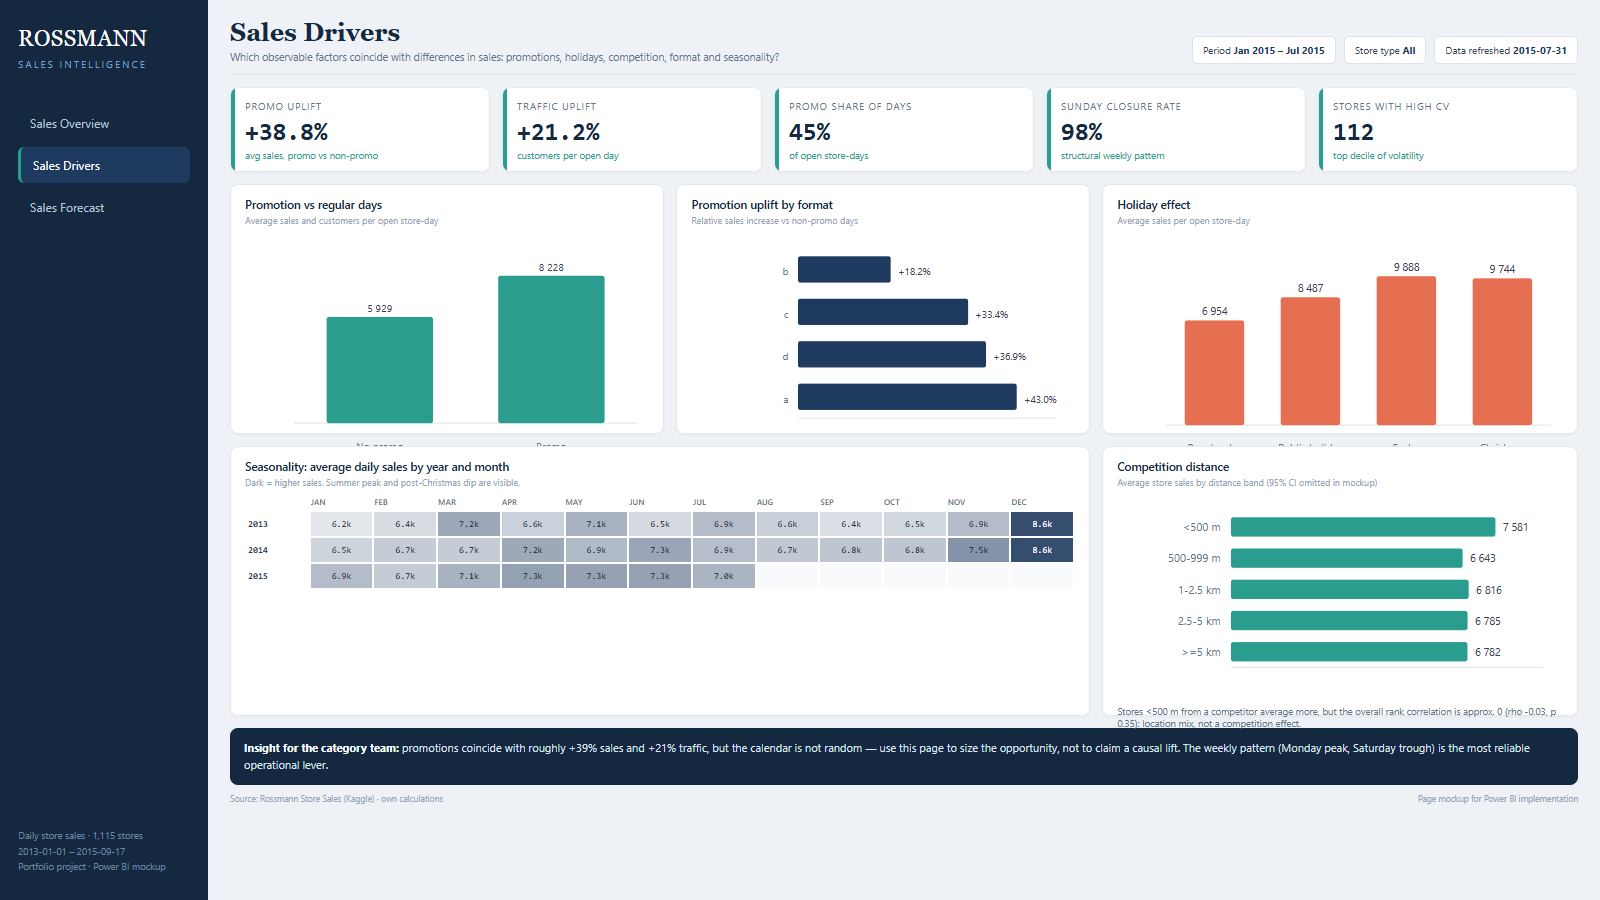

The page's visual inventory and layout, read from the dashboard file:
{"tool":"powerbi","page":{"name":"Dźwignie","canvas":[1920,1080],"ordinal":1},"visuals":[{"type":"textbox","box":[64,40,1150,110],"z":0},{"type":"textbox","box":[1420,48,436,80],"z":1000},{"type":"shape","box":[64,172,1792,2],"z":2000},{"type":"cardVisual","fields":{"Data":["_Miary.Średnia sprzedaż w promocji"]},"box":[64,192,430,140],"z":3000},{"type":"cardVisual","fields":{"Data":["_Miary.Średnia sprzedaż poza promocją"]},"box":[518,192,430,140],"z":4000},{"type":"cardVisual","fields":{"Data":["_Miary.Wzrost sprzedaży w promocji"]},"box":[972,192,430,140],"z":5000},{"type":"cardVisual","fields":{"Data":["_Miary.Wzrost klientów w promocji"]},"box":[1426,192,430,140],"z":6000},{"type":"columnChart","title":"Promocja a sprzedaż","fields":{"Category":["Fakt_Promo.Label"],"Y":["Avg(Fakt_Promo.AvgSales)"]},"box":[64,352,756,458],"z":7000},{"type":"lineChart","title":"Sprzedaż miesięczna","fields":{"Category":["Dim_Data.YearMonth"],"Y":["_Miary.Sprzedaż"]},"box":[847.7,516.5,1008.1,293.3],"z":8000},{"type":"textbox","box":[857.9,351.6,997.9,164.9],"z":9000},{"type":"tableEx","title":"Dzień tygodnia","fields":{"Values":["Fakt_DzienTygodnia.DayName","Fakt_DzienTygodnia.AvgSales","Fakt_DzienTygodnia.AvgCustomers"]},"box":[64,828,1792,210],"z":10000},{"type":"textbox","box":[64,1042,1792,24],"z":11000},{"type":"shape","box":[63.8,166.3,1791.6,12],"z":12000}]}

Visuals, with their boxes on the page's 1920x1080 design canvas (x1, y1, x2, y2). These are canvas units, not pixel positions in the 1600x900 screenshot, which may show the page scaled, cropped or inside an application window:
textbox: <region>64, 40, 1214, 150</region>
textbox: <region>1420, 48, 1856, 128</region>
shape: <region>64, 172, 1856, 174</region>
cardVisual - _Miary.Średnia sprzedaż w promocji: <region>64, 192, 494, 332</region>
cardVisual - _Miary.Średnia sprzedaż poza promocją: <region>518, 192, 948, 332</region>
cardVisual - _Miary.Wzrost sprzedaży w promocji: <region>972, 192, 1402, 332</region>
cardVisual - _Miary.Wzrost klientów w promocji: <region>1426, 192, 1856, 332</region>
"Promocja a sprzedaż" columnChart: <region>64, 352, 820, 810</region>
"Sprzedaż miesięczna" lineChart: <region>848, 516, 1856, 810</region>
textbox: <region>858, 352, 1856, 516</region>
"Dzień tygodnia" tableEx: <region>64, 828, 1856, 1038</region>
textbox: <region>64, 1042, 1856, 1066</region>
shape: <region>64, 166, 1855, 178</region>
